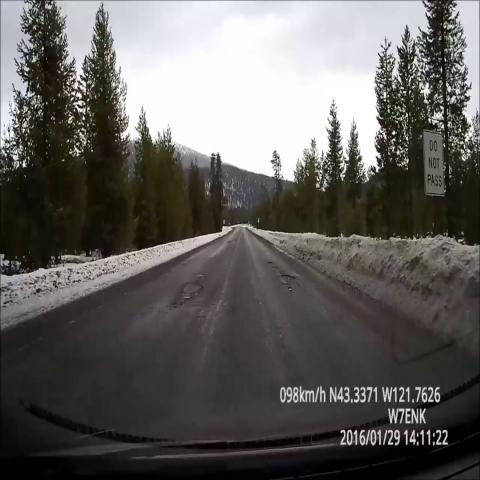pothole: (175, 271, 210, 305), (277, 268, 304, 297), (264, 251, 282, 275), (225, 232, 240, 249)
